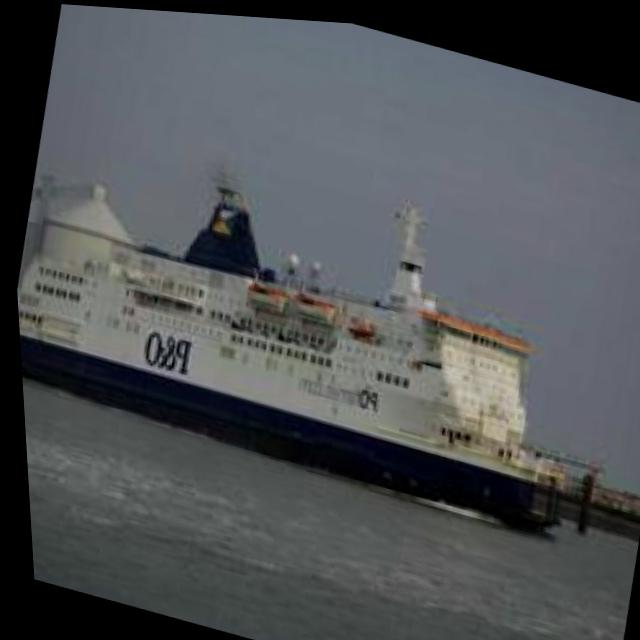ship2: (13, 175, 556, 523)
